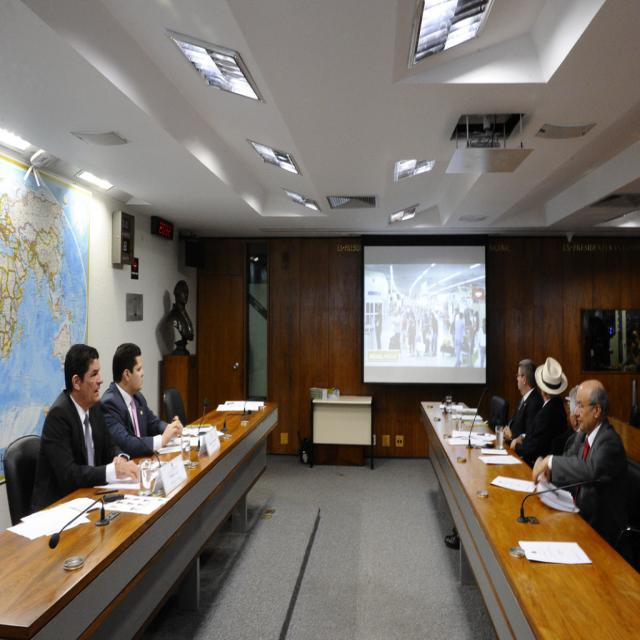chair: (3, 434, 43, 526), (163, 388, 186, 426), (488, 395, 509, 432)
desk: (3, 402, 278, 638)
person: (31, 342, 140, 509), (532, 379, 630, 548), (100, 341, 183, 461), (515, 356, 574, 467), (502, 359, 544, 456)
tv: (360, 238, 490, 393)
